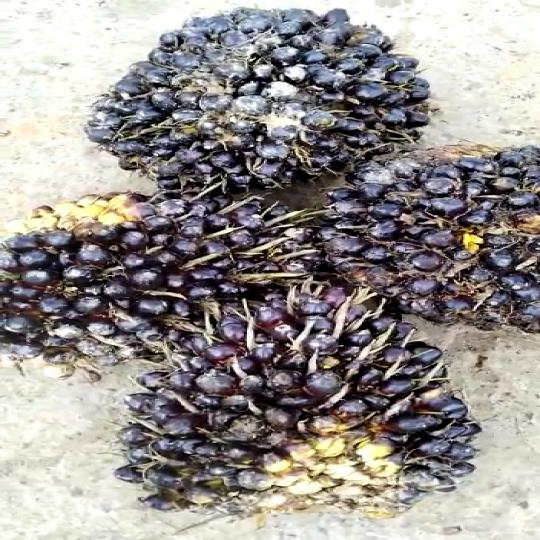mentah: (119, 289, 535, 522), (75, 0, 420, 203), (0, 184, 322, 386), (310, 127, 540, 338)
